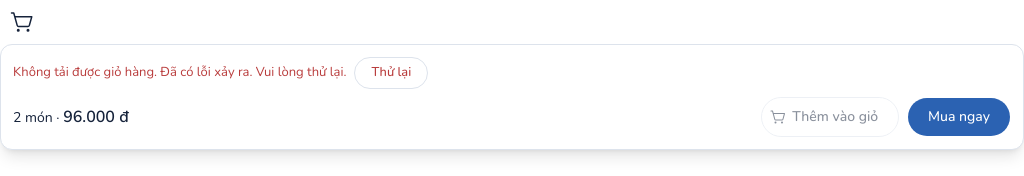
Scenario: CampaignBuyBar › when the cart cannot be loaded › loads the cart again on request, after which adding works
The width and height of the screenshot is (1024, 176).
Click the button "Thử lại" at (391, 73), box [354,57,428,89]
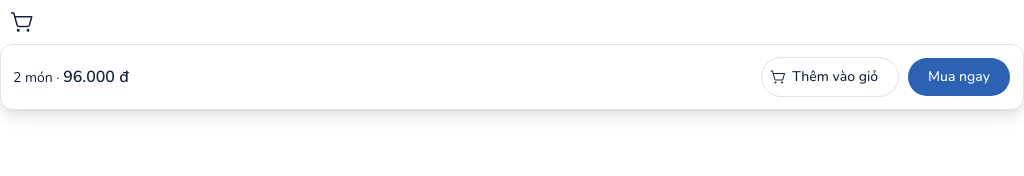
Expected: the message "Không tải được giỏ hàng. Đã có lỗi xảy ra. Vui lòng thử lại. Thử lại" is gone
Expected: the button "Thêm vào giỏ" is enabled, [761,57,899,97]
